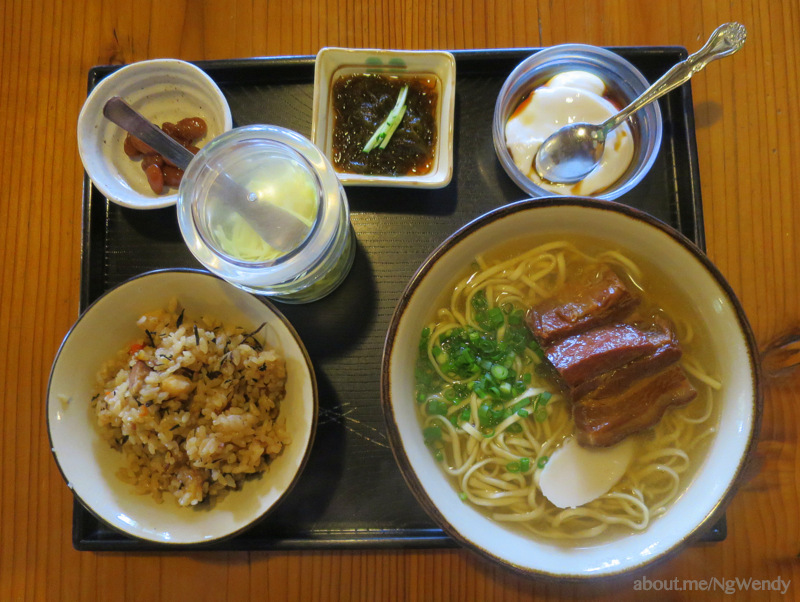Soba: (417, 241, 701, 543)
